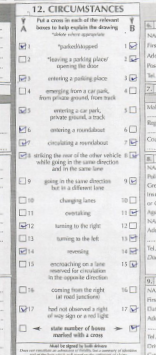check: (128, 41, 138, 51), (128, 54, 138, 64), (128, 73, 138, 83), (17, 151, 28, 160), (128, 138, 138, 147), (17, 125, 27, 134), (17, 106, 27, 115), (128, 177, 138, 186), (128, 208, 138, 217), (18, 221, 28, 230), (18, 247, 28, 256), (128, 260, 138, 269), (128, 247, 139, 255), (18, 42, 27, 51), (18, 74, 27, 83), (18, 138, 27, 147), (128, 234, 137, 243), (128, 151, 137, 159)
